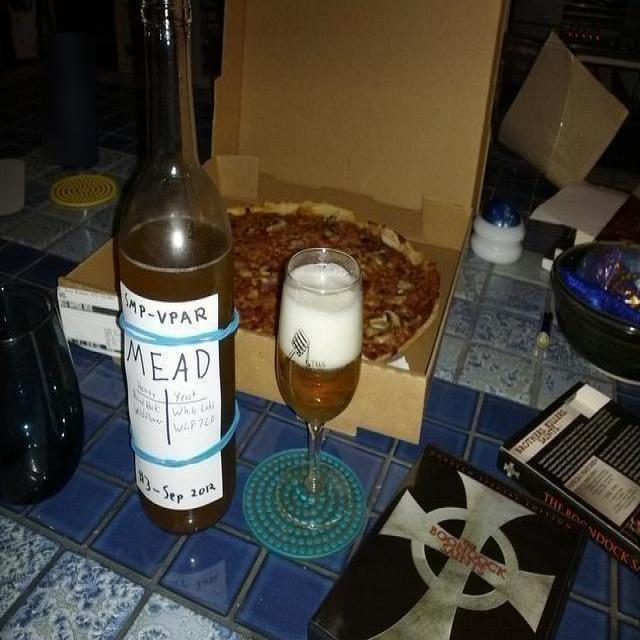bottle-glass: (114, 1, 239, 536)
glass-normal: (1, 287, 85, 505)
glass-wine: (277, 249, 363, 528)
